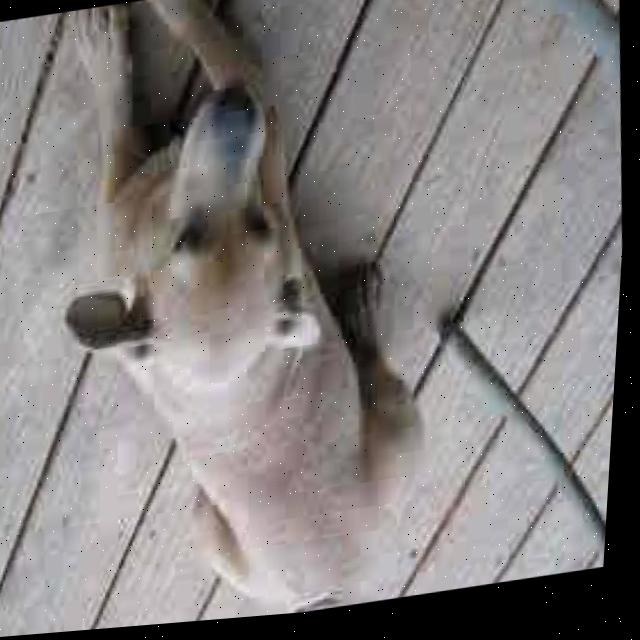dogs: (16, 0, 476, 637)
